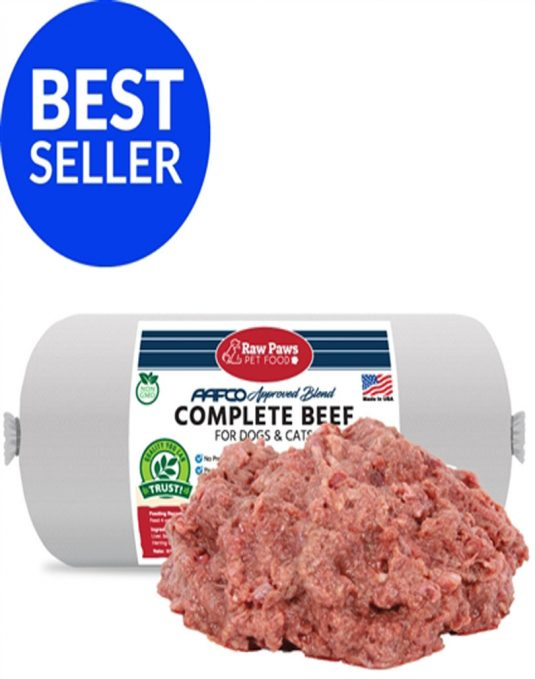ground_beef: (143, 414, 524, 669)
